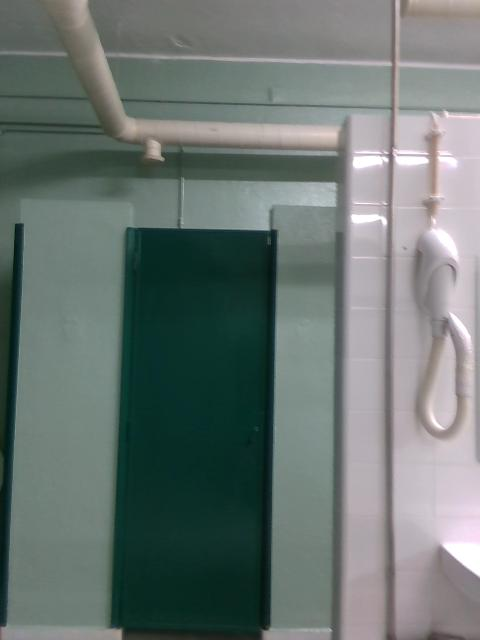door: (120, 234, 268, 625)
